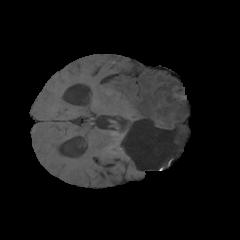glioma: (104, 73, 187, 154)
